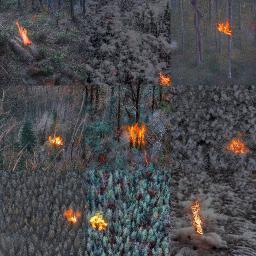Small fire: (55, 198, 122, 238), (9, 11, 42, 57), (188, 194, 217, 241), (117, 117, 152, 153), (223, 127, 253, 165), (147, 66, 183, 92), (209, 16, 243, 42), (48, 126, 68, 156)
